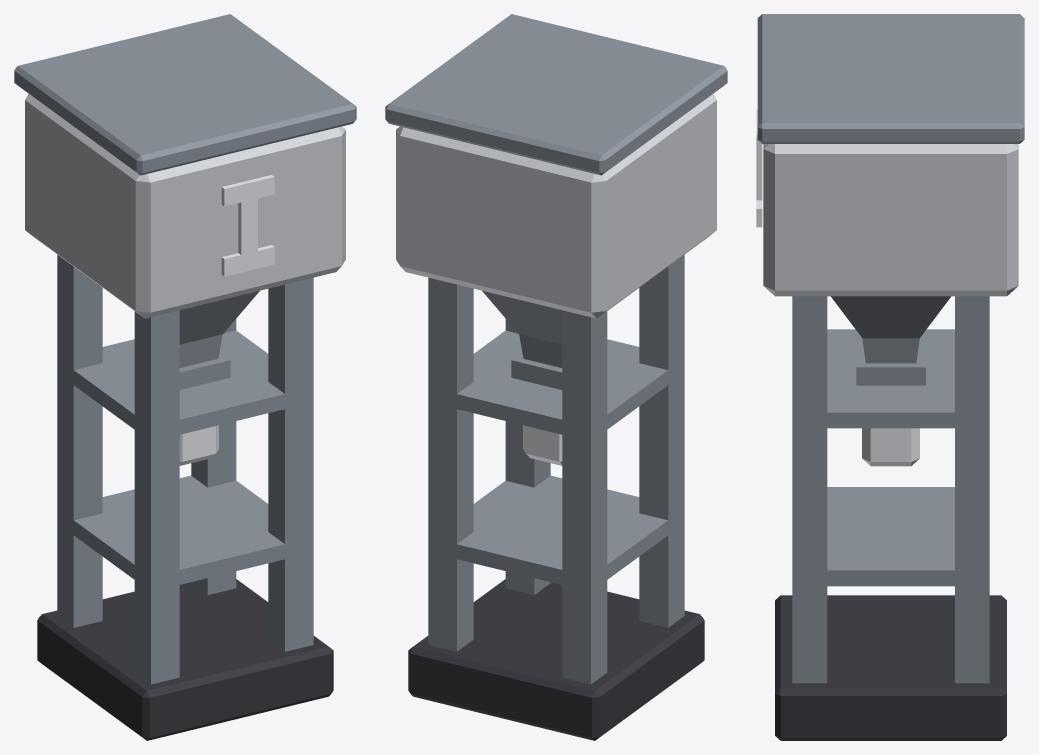
File: IronDropper.fbx
The picture shows the model from 3 angles, left to right: view 1: azimuth 30°, elevation 25°; view 2: azimuth 150°, elevation 25°; view 3: azimuth 270°, elevation 25°; orthographic projection. The views are drawn at different scales.
Visible parts, largest first — view 1: IronDropper, IronDropper_Ore; view 2: IronDropper, IronDropper_Ore; view 3: IronDropper, IronDropper_Ore.
Boxes of the visible parts, x1,y1,x2,y2 form: IronDropper: (14,14,356,740); IronDropper_Ore: (179,425,218,465); IronDropper: (385,14,727,740); IronDropper_Ore: (523,425,562,465); IronDropper: (756,14,1024,740); IronDropper_Ore: (862,428,919,466).
Size of the model in its own units: 4.6 by 11.9 by 4.62.
Materials: 1 (1 with a texture image).
